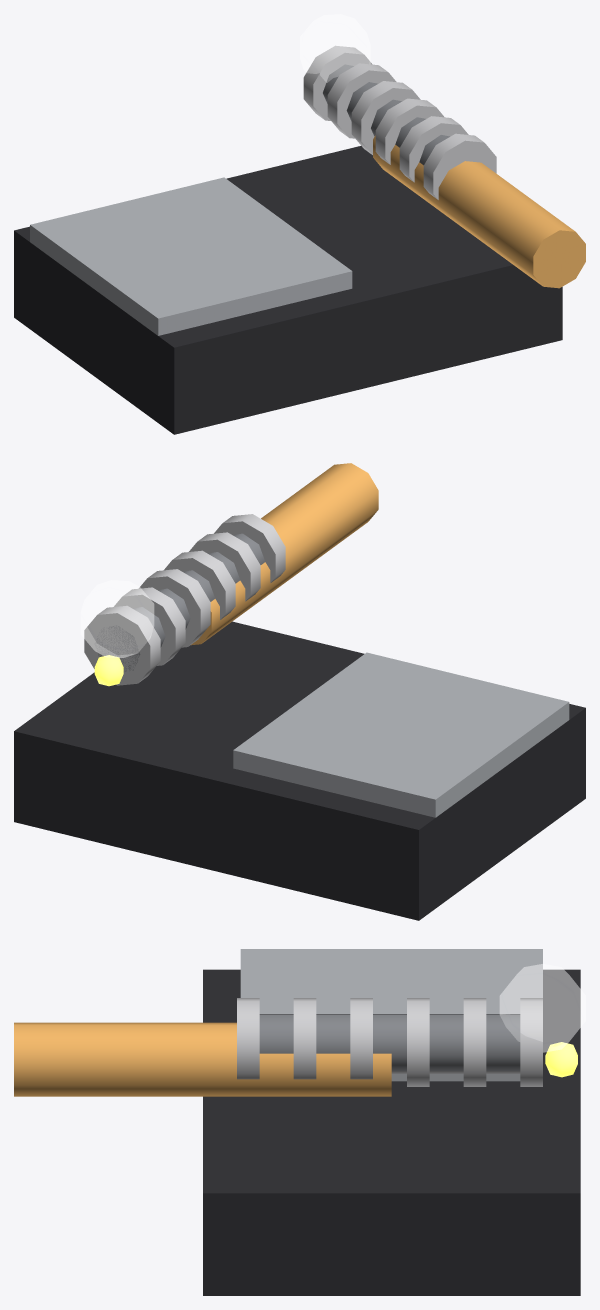
Rendered from solder-station.glb.
3 views of the same model, one above another, from view 1: azimuth 30°, elevation 25°; view 2: azimuth 150°, elevation 25°; view 3: azimuth 270°, elevation 25° (orthographic). The views are drawn at different scales.
Visible parts, largest first — view 1: base, smoke; view 2: base, smoke, tipglow; view 3: base, smoke, tipglow.
Boxes of the visible parts, bbox=[...] form: base: bbox=[14, 45, 585, 434]; smoke: bbox=[300, 14, 370, 82]; base: bbox=[14, 463, 585, 920]; smoke: bbox=[81, 580, 153, 657]; tipglow: bbox=[94, 655, 123, 686]; base: bbox=[14, 949, 580, 1295]; smoke: bbox=[500, 964, 585, 1052]; tipglow: bbox=[545, 1042, 577, 1077].
Size of the model in its own units: 0.14 by 0.082 by 0.1514.
